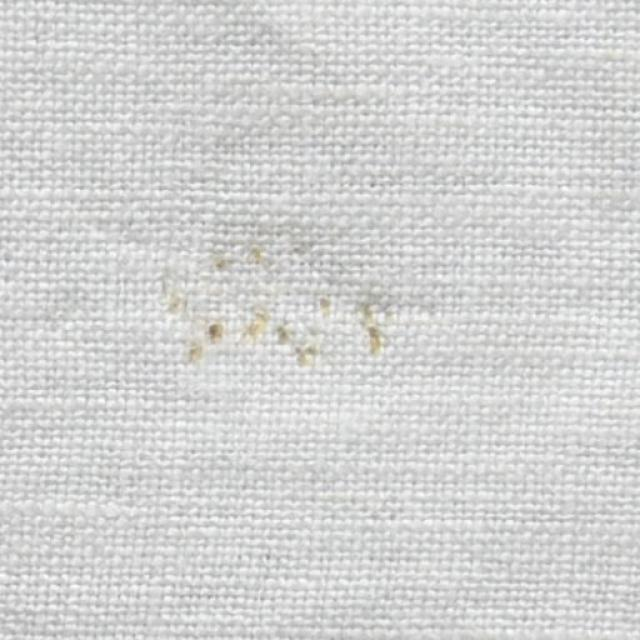Stain: (160, 215, 404, 364)
